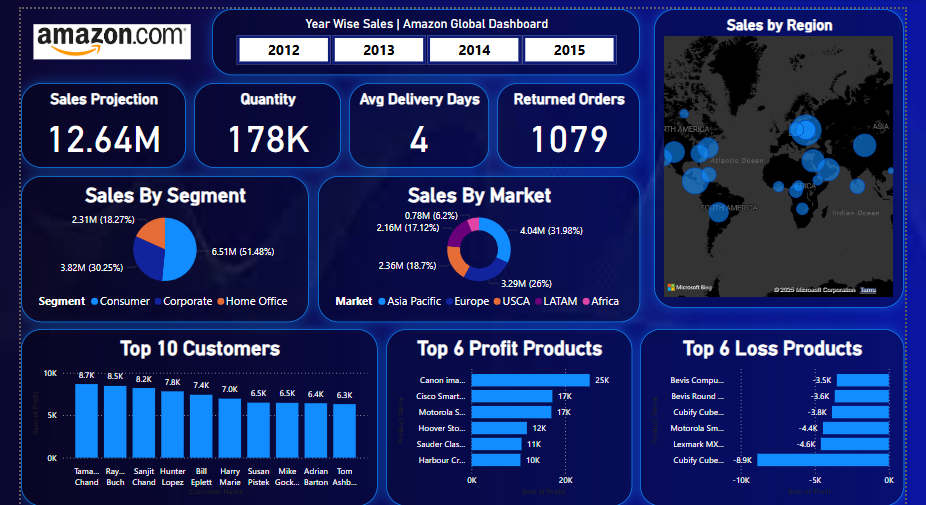

This screenshot's page, from the dashboard's own definition file:
{"tool":"powerbi","page":{"name":"Report2","canvas":[1280,720],"ordinal":1},"visuals":[{"type":"slicer","title":"Year Wise Sales | Amazon Global Dashboard","fields":{"Values":["Orders.Year"]},"box":[276.8,0,620.3,95.7],"z":0},{"type":"image","box":[13,0,237.7,95.7],"z":1000},{"type":"card","title":"Sales Projection","fields":{"Values":["Orders.Sales"]},"box":[0,107.2,239.1,123.2],"z":2000},{"type":"card","title":"Quantity","fields":{"Values":["Orders.Quantity"]},"box":[250.7,107.2,213,123.2],"z":3000},{"type":"card","title":"Avg Delivery Days","fields":{"Values":["Orders.Del Date"]},"box":[475.4,107.2,202.9,123.2],"z":4000},{"type":"card","title":"Returned Orders","fields":{"Values":["Returns.Return1"]},"box":[689.9,107.2,207.2,123.2],"z":5000},{"type":"pieChart","title":"Sales By Segment","fields":{"Y":["Orders.Sales"],"Category":["Orders.Segment"]},"box":[0,242,417.4,211.6],"z":6000},{"type":"donutChart","title":"Sales By Market","fields":{"Y":["Orders.Sales"],"Category":["Orders.Market"]},"box":[430.4,242,466.7,211.6],"z":7000},{"type":"clusteredBarChart","title":"Top 6 Profit Products","fields":{"Category":["Orders.Product Name"],"Y":["Orders.Profit"]},"box":[529,463.8,356.5,256.5],"z":8000},{"type":"columnChart","title":"Top 10 Customers","fields":{"Category":["Orders.Customer Name"],"Y":["Orders.Profit"]},"box":[0,463.8,517.4,256.5],"z":9000},{"type":"clusteredBarChart","title":"Top 6 Loss Products","fields":{"Category":["Orders.Product Name"],"Y":["Orders.Profit"]},"box":[897.1,463.8,382.6,256.5],"z":10000},{"type":"map","title":" Sales by Region","fields":{"Category":["Orders.Region"],"Size":["Orders.Sales"]},"box":[917.4,0,362.3,433.3],"z":11000}]}

Visuals, with their boxes on the page's 1280x720 design canvas (x1, y1, x2, y2). These are canvas units, not pixel positions in the 926x505 screenshot, which may show the page scaled, cropped or inside an application window:
"Year Wise Sales | Amazon Global Dashboard" slicer: bbox=(277, 0, 897, 96)
image: bbox=(13, 0, 251, 96)
"Sales Projection" card: bbox=(0, 107, 239, 230)
"Quantity" card: bbox=(251, 107, 464, 230)
"Avg Delivery Days" card: bbox=(475, 107, 678, 230)
"Returned Orders" card: bbox=(690, 107, 897, 230)
"Sales By Segment" pieChart: bbox=(0, 242, 417, 454)
"Sales By Market" donutChart: bbox=(430, 242, 897, 454)
"Top 6 Profit Products" clusteredBarChart: bbox=(529, 464, 886, 720)
"Top 10 Customers" columnChart: bbox=(0, 464, 517, 720)
"Top 6 Loss Products" clusteredBarChart: bbox=(897, 464, 1280, 720)
" Sales by Region" map: bbox=(917, 0, 1280, 433)
